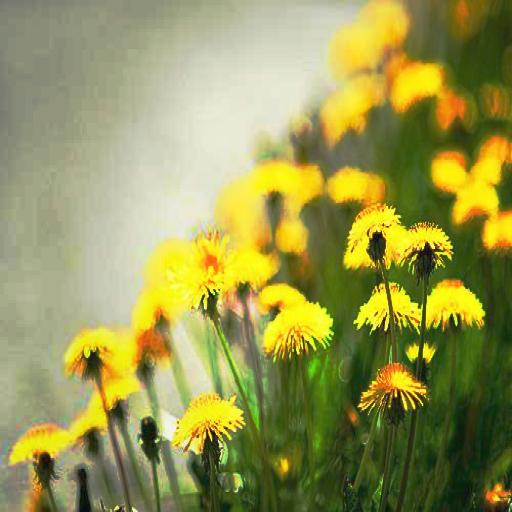dandelion: (168, 232, 235, 317), (262, 302, 338, 362), (172, 392, 252, 443), (359, 362, 427, 418), (422, 276, 486, 334), (358, 280, 423, 332), (10, 424, 76, 463), (62, 323, 110, 372), (350, 201, 395, 240), (408, 223, 454, 261)
